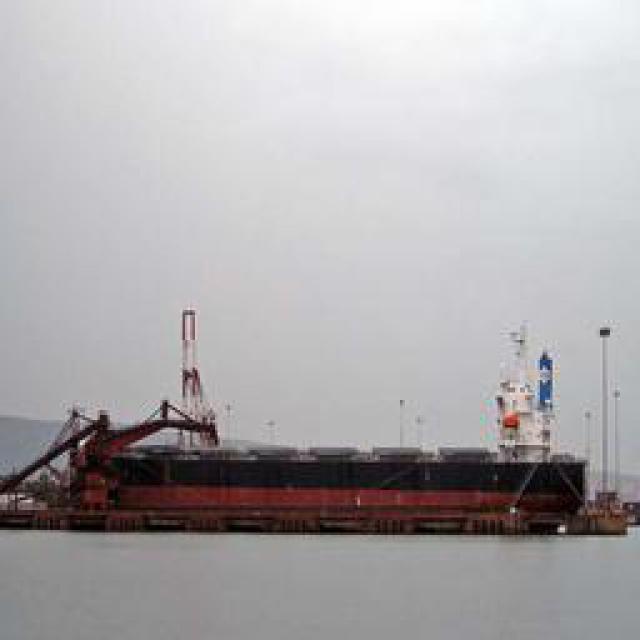Ship: (16, 416, 629, 543)
